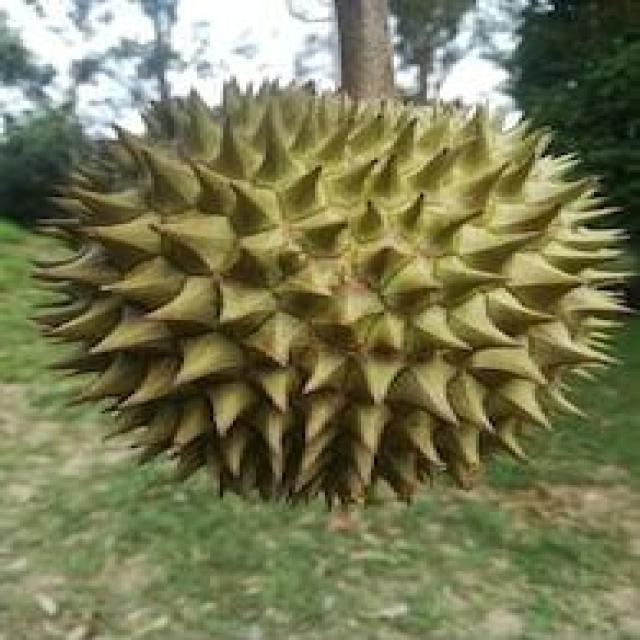immature: (18, 77, 639, 520)
